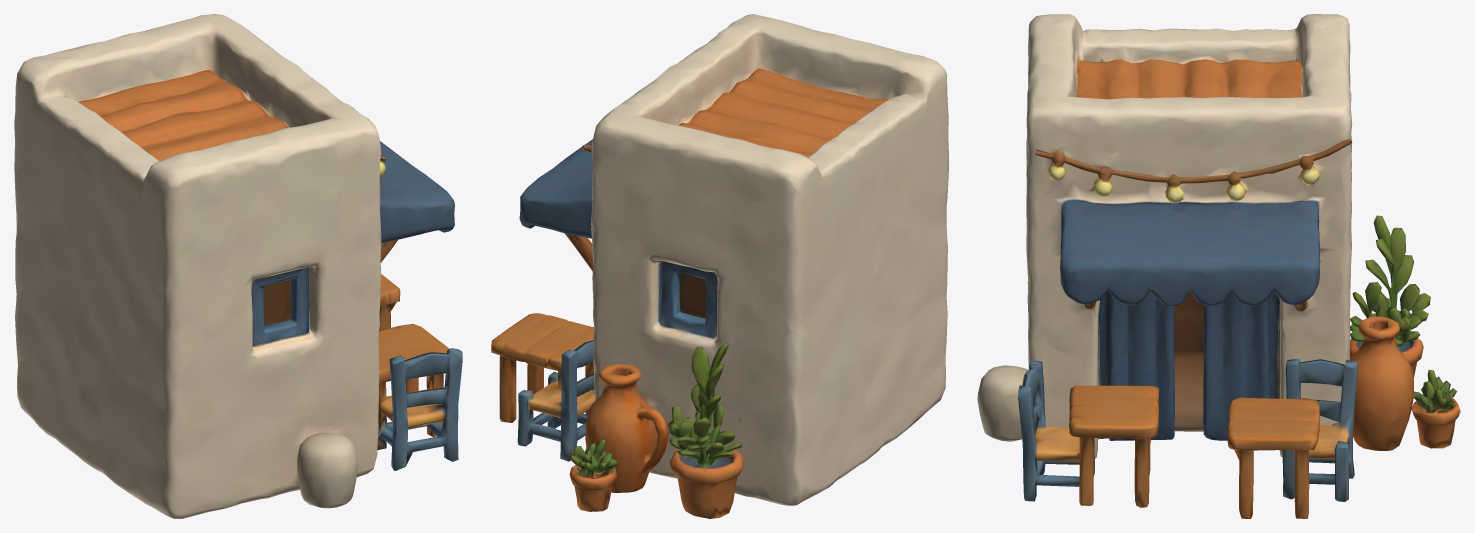
Rendered from tavern.glb.
The picture shows the model from 3 angles, left to right: view 1: azimuth 30°, elevation 25°; view 2: azimuth 150°, elevation 25°; view 3: azimuth 270°, elevation 25°; orthographic projection. The views are drawn at different scales.
Parts seen in each view (by area): view 1: tripo_node_99ace43e-256b-42d2-b011-b3d9f49c481c; view 2: tripo_node_99ace43e-256b-42d2-b011-b3d9f49c481c; view 3: tripo_node_99ace43e-256b-42d2-b011-b3d9f49c481c.
Boxes of the visible parts, x1,y1,x2,y2 form: tripo_node_99ace43e-256b-42d2-b011-b3d9f49c481c: (14, 14, 462, 518); tripo_node_99ace43e-256b-42d2-b011-b3d9f49c481c: (491, 14, 948, 518); tripo_node_99ace43e-256b-42d2-b011-b3d9f49c481c: (977, 14, 1460, 518).
Bounding box in the file's own units: 0.8069 × 0.8146 × 1.
1 material, 1 textured.
